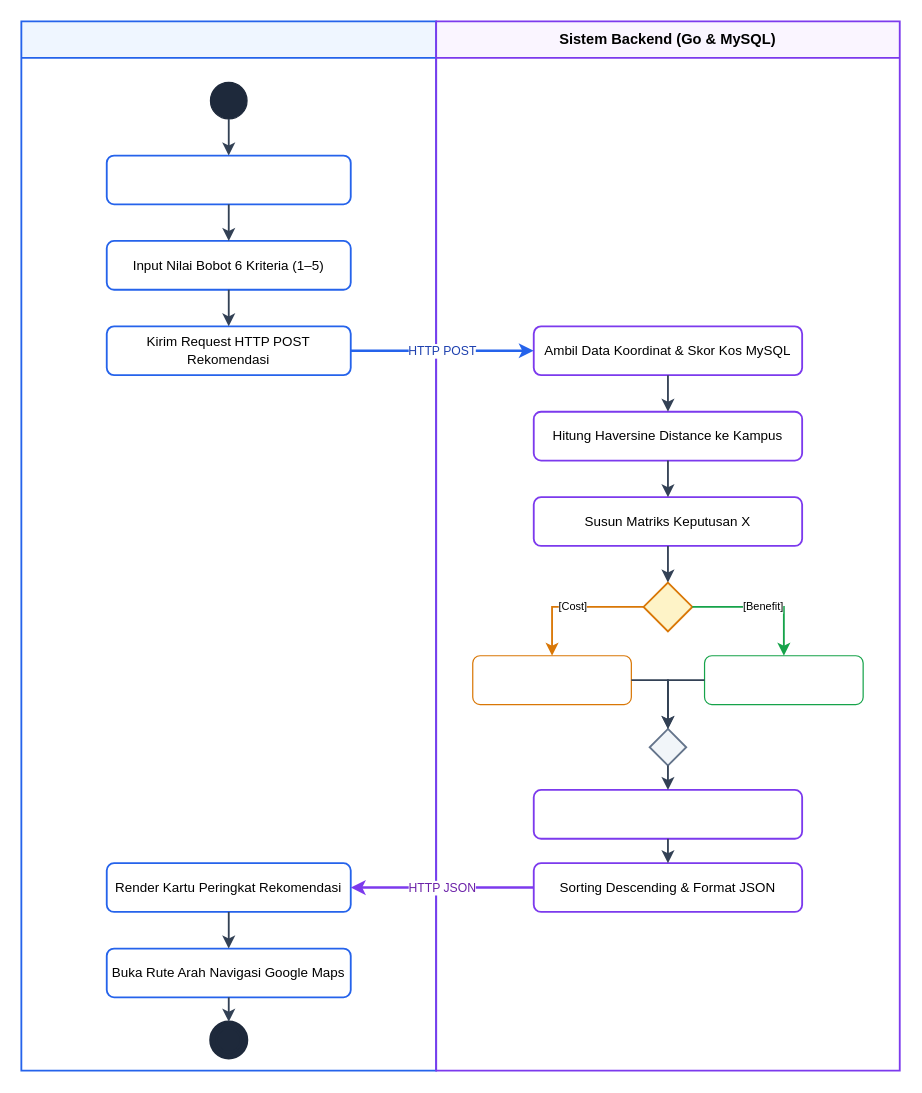
This 922x1093 diagram has some shape labels left out. The box of each missing label's shape, as (x1, y1, x2, y2) in pixels:
Hitung Nilai Preferensi Vi = Σ(wj * rij): (532, 788, 803, 839)
Mahasiswa (Aplikasi Mobile): (20, 20, 437, 1071)
Membuka Menu Rekomendasi Kos: (105, 154, 351, 205)
rij = min(xij) / xij (Cost): (472, 655, 631, 705)
rij = xij / max(xij) (Benefit): (703, 655, 863, 705)
